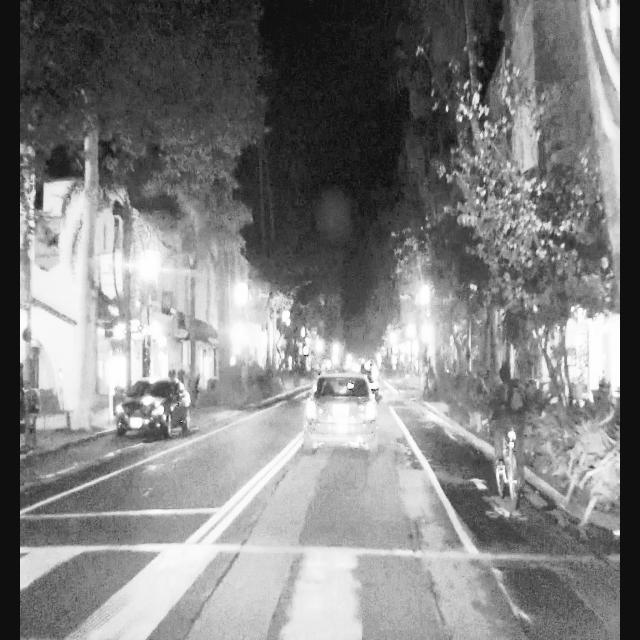Tree: (518, 70, 585, 454), (62, 19, 106, 435)
